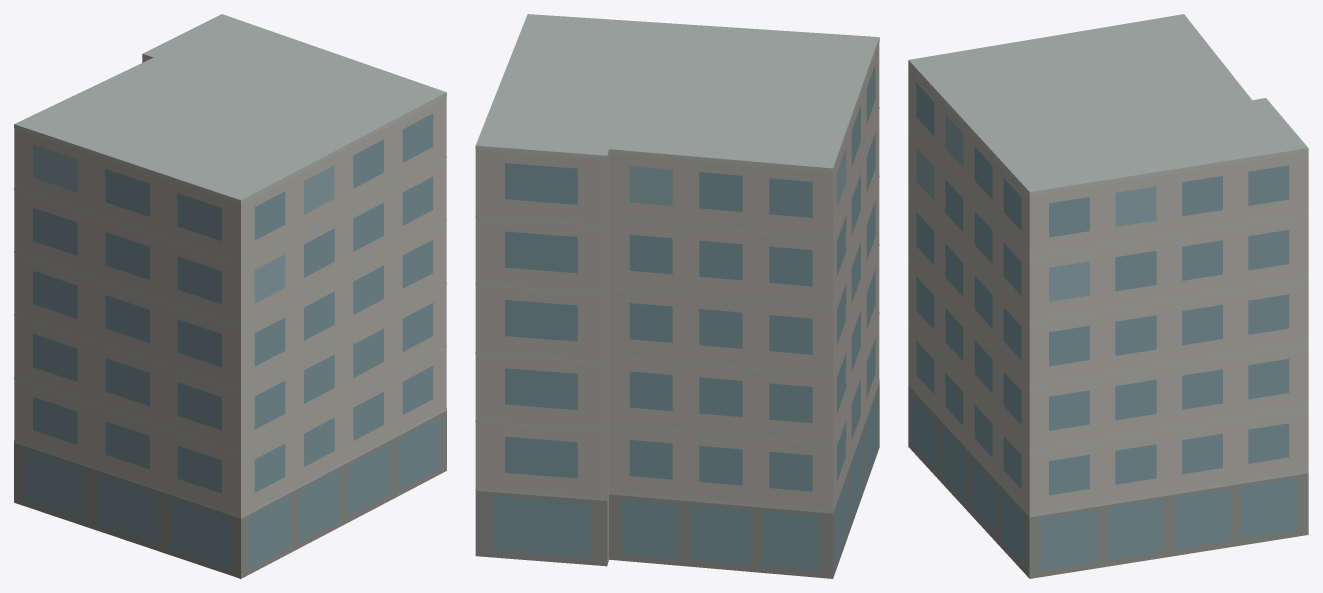
Rendered from survey-upis-32860356.glb.
3 renders of one model, left to right at view 1: azimuth 30°, elevation 25°; view 2: azimuth 150°, elevation 25°; view 3: azimuth 270°, elevation 25°, orthographic. The views are drawn at different scales.
Parts seen in each view (by area): view 1: survey-upis-32860356.tmp; view 2: survey-upis-32860356.tmp; view 3: survey-upis-32860356.tmp.
Boxes of the visible parts, bbox=[...] form: survey-upis-32860356.tmp: bbox=[14, 14, 446, 578]; survey-upis-32860356.tmp: bbox=[475, 14, 879, 578]; survey-upis-32860356.tmp: bbox=[908, 14, 1308, 578].
Size of the model in its own units: 21.45 by 21.7 by 20.36.
